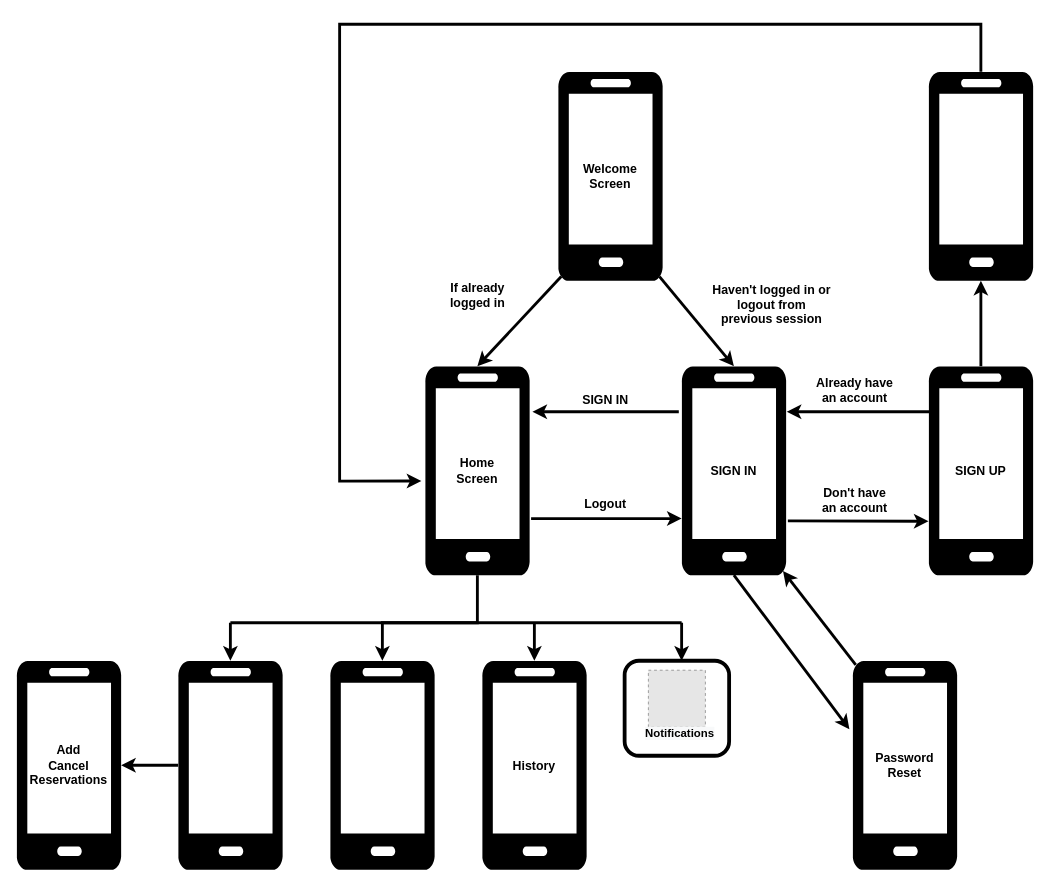
Some shapes in this 1049 by 886 pixel diagram are drawn without their labels. Grey dashed boxes stand in for pictures. The box of each missing label's shape, as (x1, y1, x2, y2) in pixels:
Reservations: (178, 660, 282, 869)
Settings: (330, 660, 434, 869)
Verify Email: (928, 71, 1033, 280)
